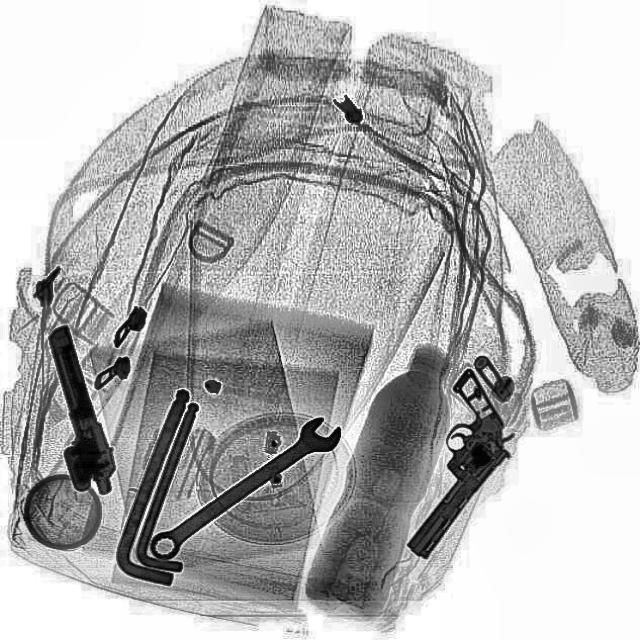Gun: (349, 367, 541, 563), (23, 321, 123, 501)
Wrench: (142, 407, 348, 567)
